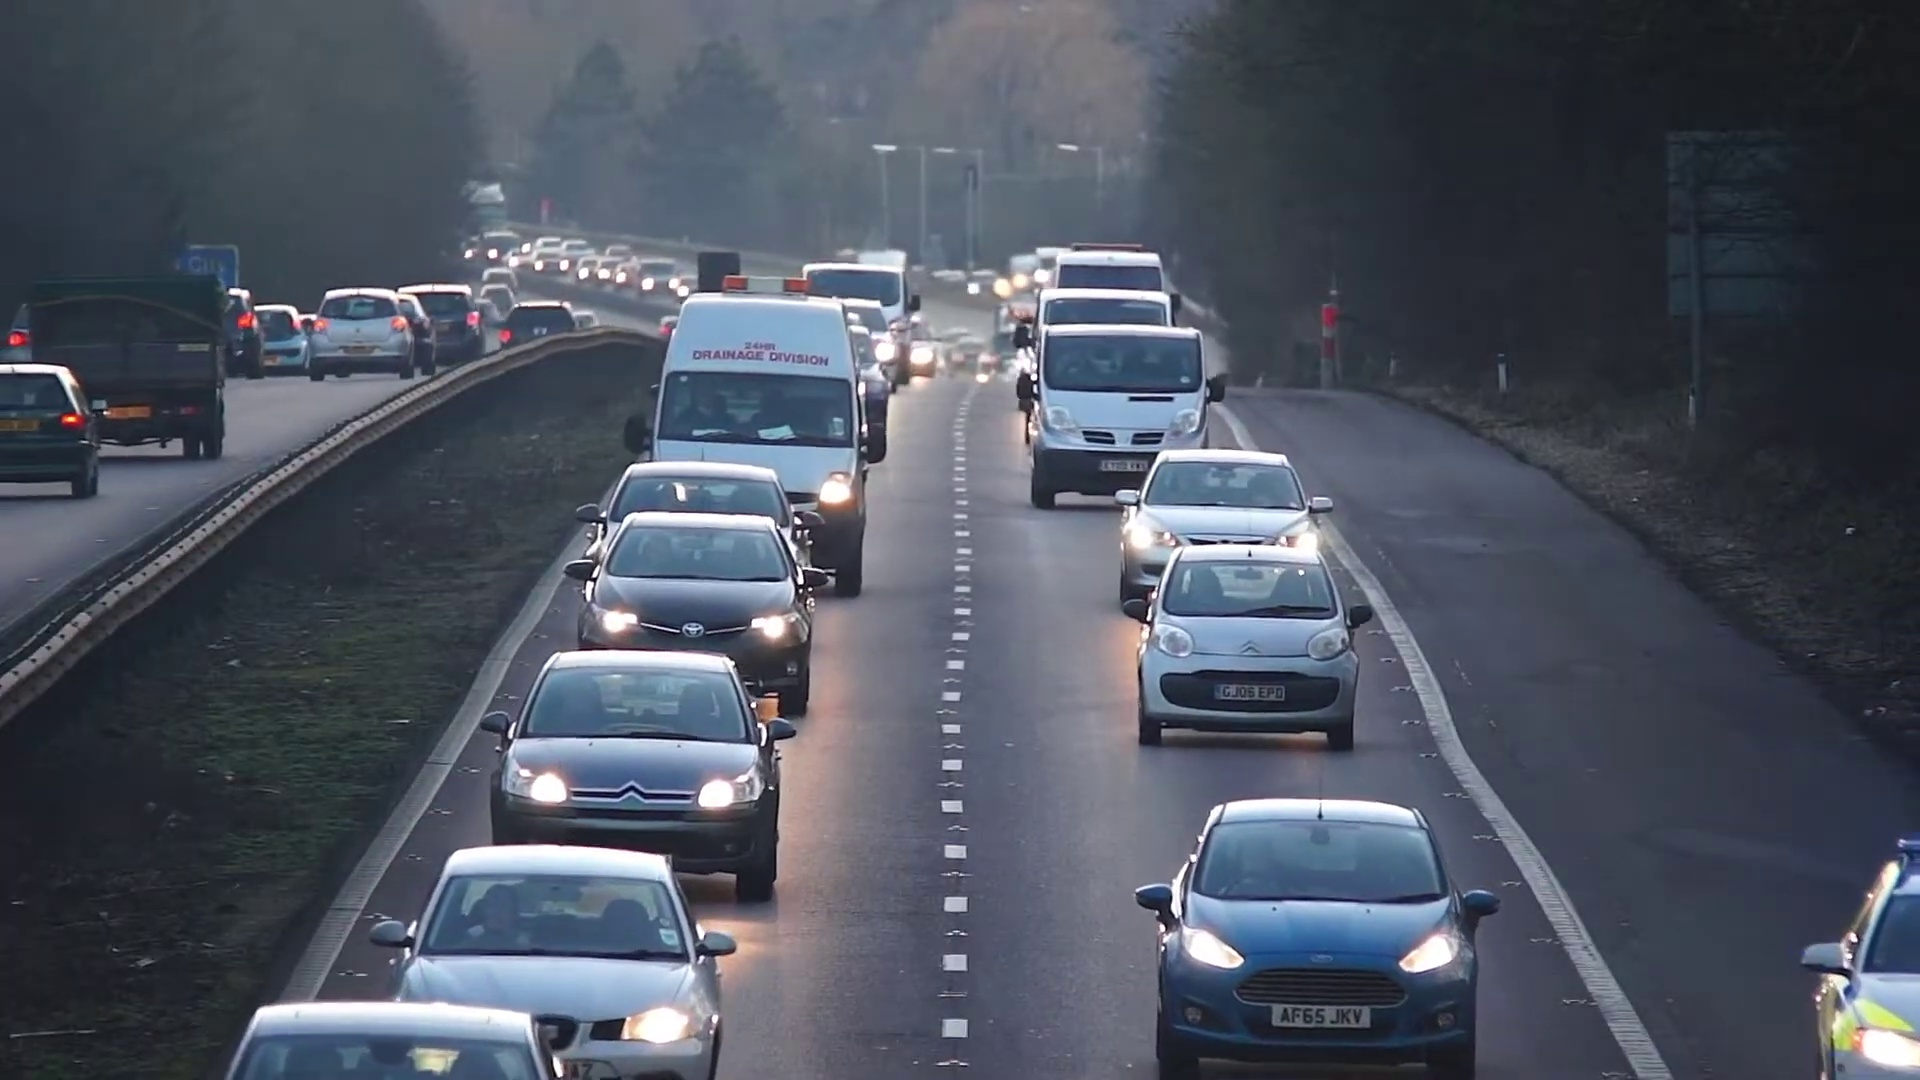license_plate: (1268, 1004, 1374, 1031), (1213, 682, 1287, 707)
